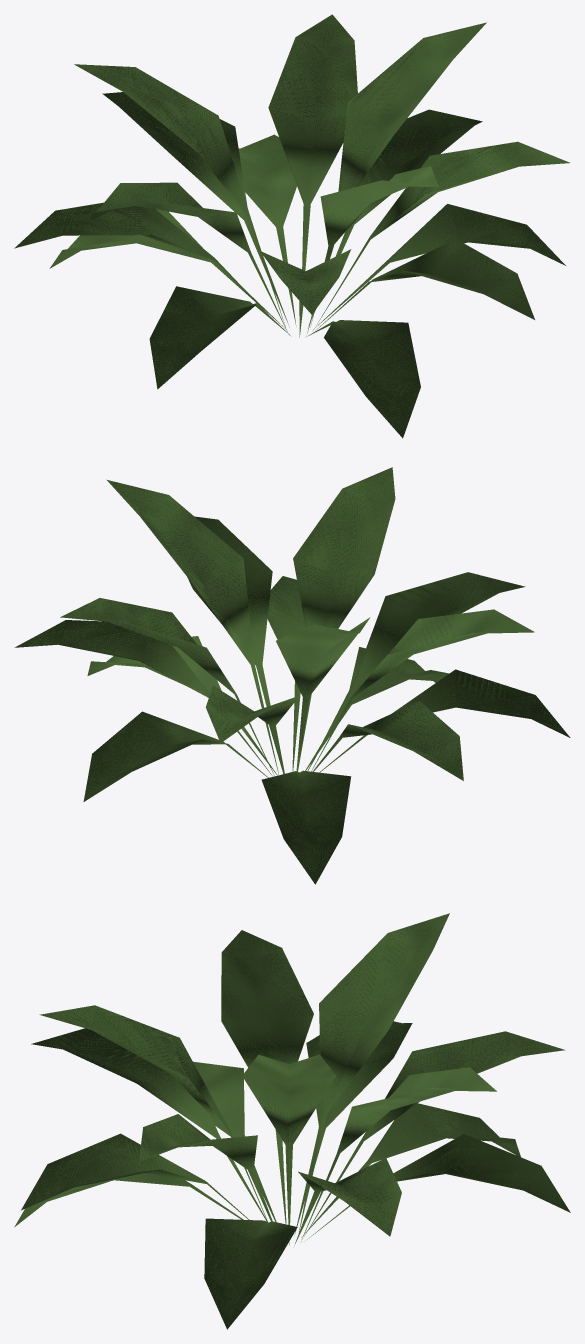
3 views of the same model, one above another, from view 1: azimuth 30°, elevation 25°; view 2: azimuth 150°, elevation 25°; view 3: azimuth 270°, elevation 25° (orthographic). The views are drawn at different scales.
Visible parts, largest first — view 1: Prop_6; view 2: Prop_6; view 3: Prop_6.
Boxes of the visible parts, bbox=[...] form: Prop_6: bbox=[14, 14, 569, 438]; Prop_6: bbox=[14, 467, 570, 884]; Prop_6: bbox=[14, 913, 570, 1329].
Size of the model in its own units: 2.67 by 1.45 by 2.68.
